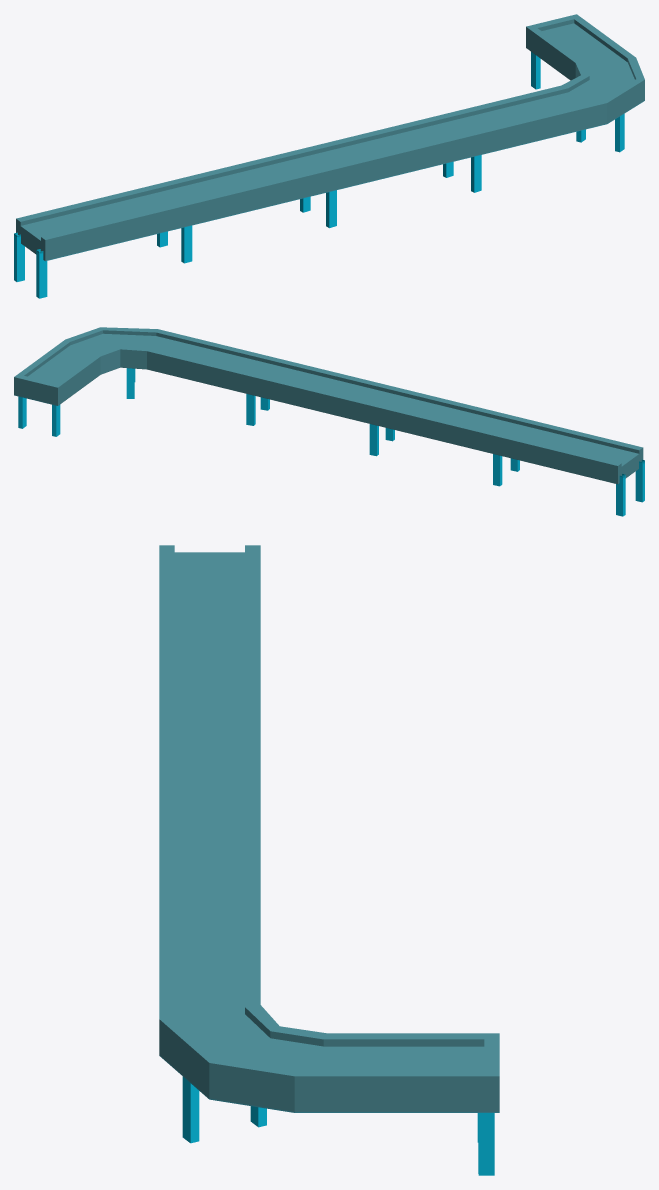
File: Conveyor.fbx
The picture shows the model from 3 angles, top to bottom: view 1: azimuth 30°, elevation 25°; view 2: azimuth 150°, elevation 25°; view 3: azimuth 270°, elevation 25°; orthographic projection. The views are drawn at different scales.
Visible parts, largest first — view 1: Conveyor; view 2: Conveyor; view 3: Conveyor.
Part boxes in pixels (<box>): Conveyor: <box>14,14,644,298</box>; Conveyor: <box>14,327,644,516</box>; Conveyor: <box>159,545,499,1175</box>.
Size of the model in its own units: 246 by 21.96 by 66.37.
